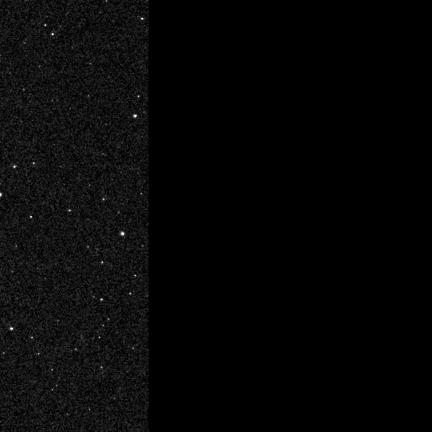blob: (13, 165, 17, 169), (121, 232, 125, 236), (10, 327, 14, 331), (134, 115, 138, 119), (0, 193, 3, 198), (33, 162, 36, 165), (30, 216, 33, 219), (141, 18, 144, 21), (101, 298, 103, 302), (31, 337, 34, 339), (52, 33, 54, 36), (44, 25, 47, 27), (103, 325, 105, 327), (38, 353, 40, 355), (102, 262, 104, 264), (101, 367, 103, 369), (135, 275, 137, 277), (130, 293, 132, 295), (99, 337, 101, 339)
